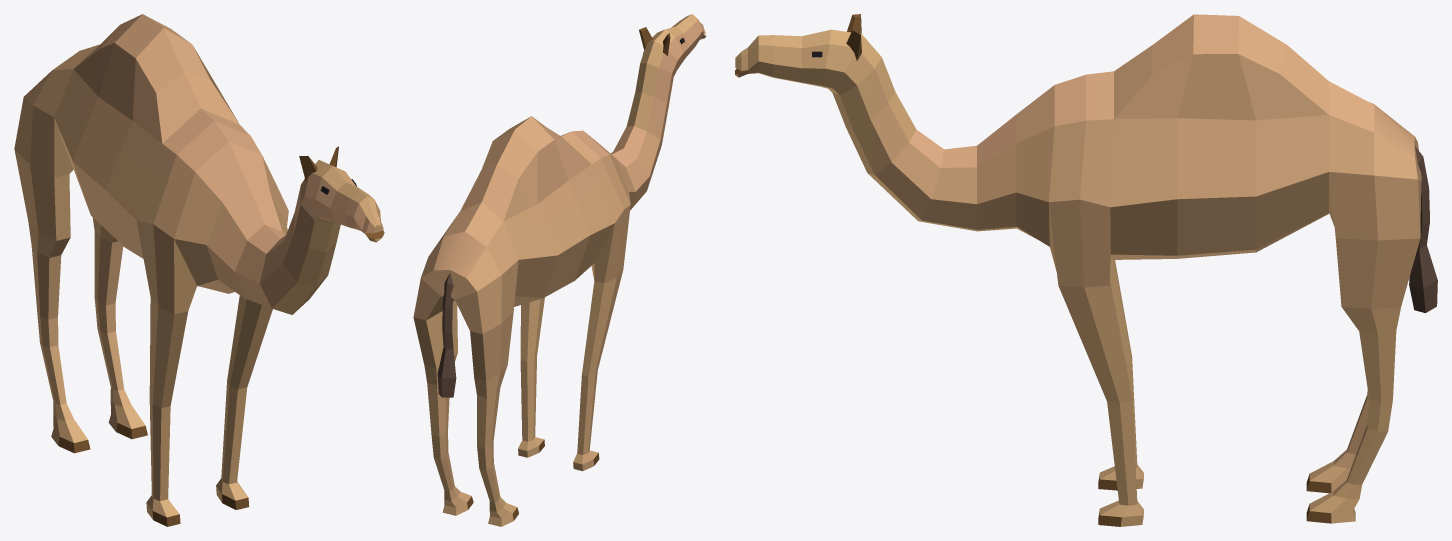
File: camel.glb
3 views of the same model, side by side, from view 1: azimuth 30°, elevation 25°; view 2: azimuth 150°, elevation 25°; view 3: azimuth 270°, elevation 25° (orthographic). The views are drawn at different scales.
Parts seen in each view (by area): view 1: Geo_Camel; view 2: Geo_Camel; view 3: Geo_Camel.
Boxes of the visible parts, <box> form: Geo_Camel: <box>14,14,384,526</box>; Geo_Camel: <box>413,14,705,526</box>; Geo_Camel: <box>735,14,1437,526</box>.
Bounding box in the file's own units: 64.19 × 211 × 275.
Materials: 1 (1 with a texture image).
